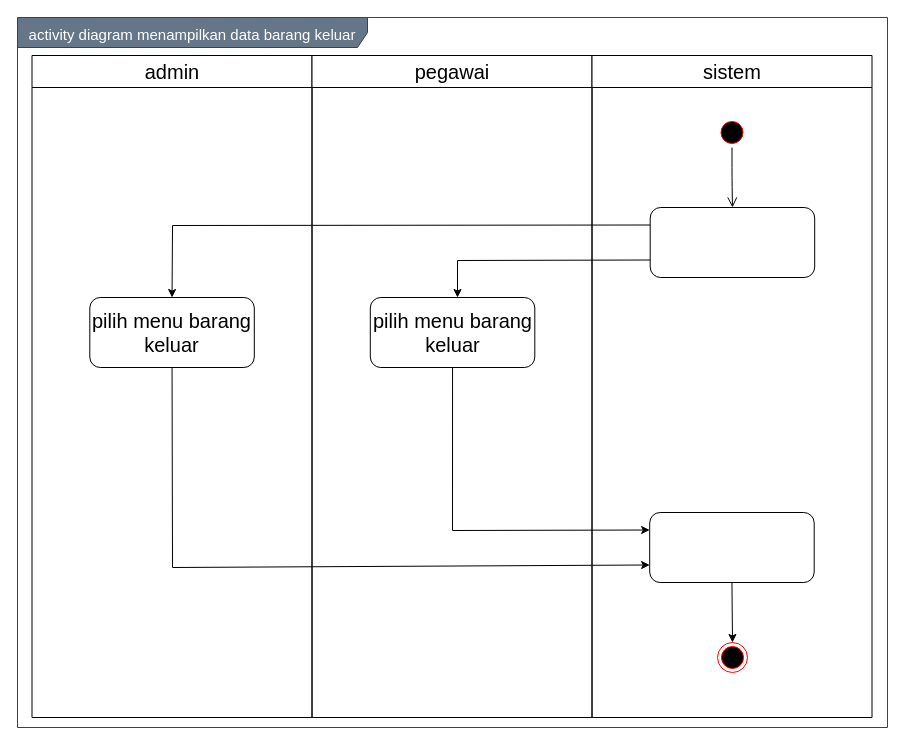
Some shapes in this 905 by 745 pixel diagram are drawn without their labels. Here are the shapes that lost their labels. From the top down, the centre of each, then its label:
pixel 732 242: menampilkan dashboard sesuai rolenya
pixel 731 547: menampilkan data barang keluar
